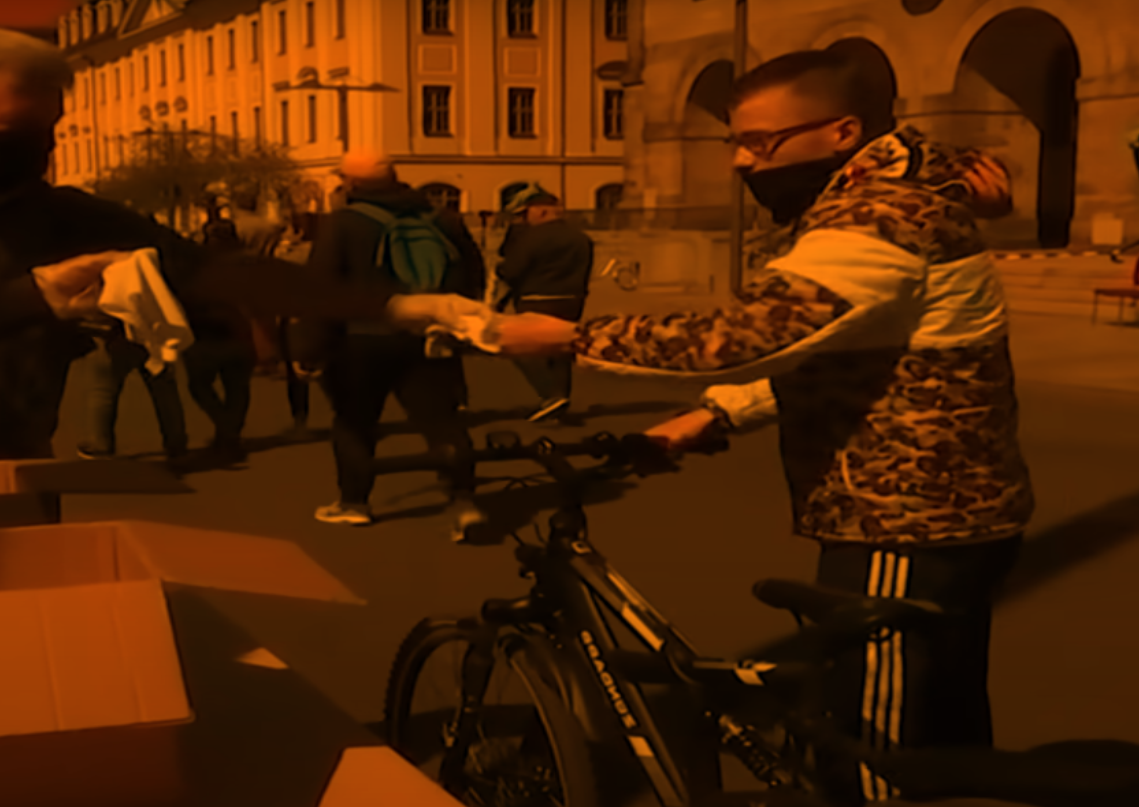mask_weared_incorrect: (718, 47, 891, 222)
